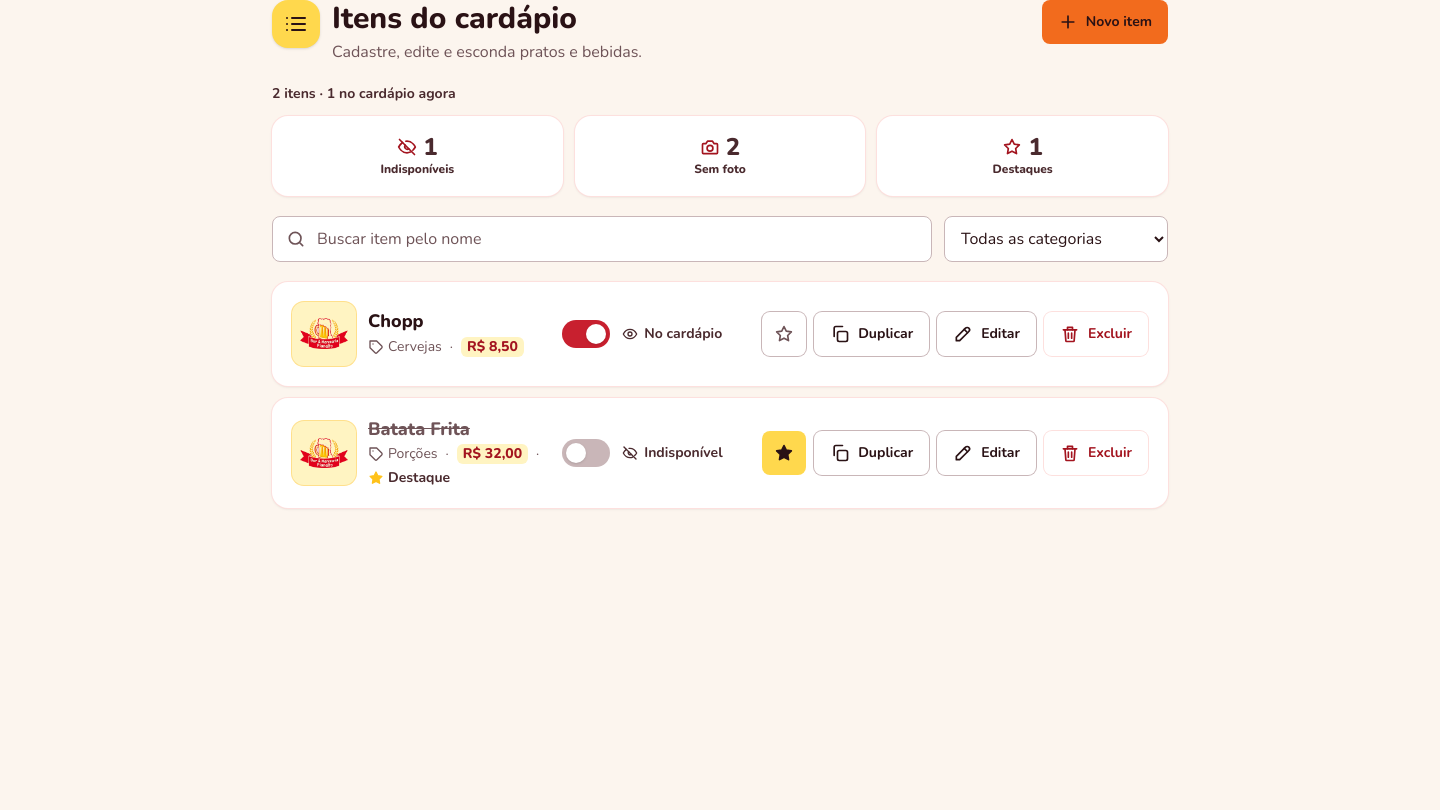
ItemsPage (proprietário) › só exclui depois de confirmar
What coordinates should you click on to do the following:
click the button with aria-label "Excluir Chopp"
I would click on:
 (1096, 334)
Its box is [1044,312,1148,356].
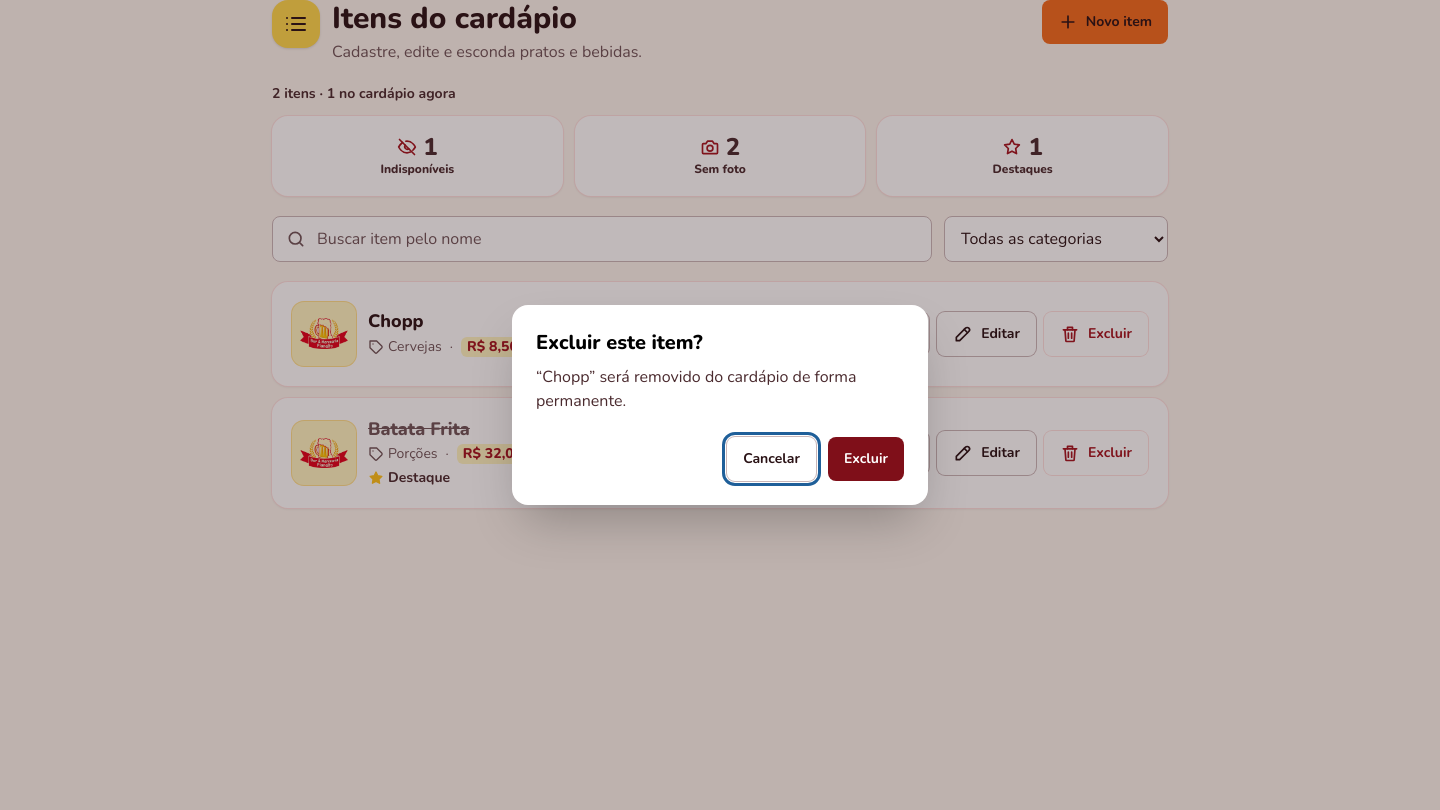
Now the dialog "Excluir este item?" shows "“Chopp” será removido", box [536,366,856,412]
What coordinates should you click on to do the following:
click the button "Cancelar"
I would click on:
 (772, 459)
Its box is [727,437,816,481].
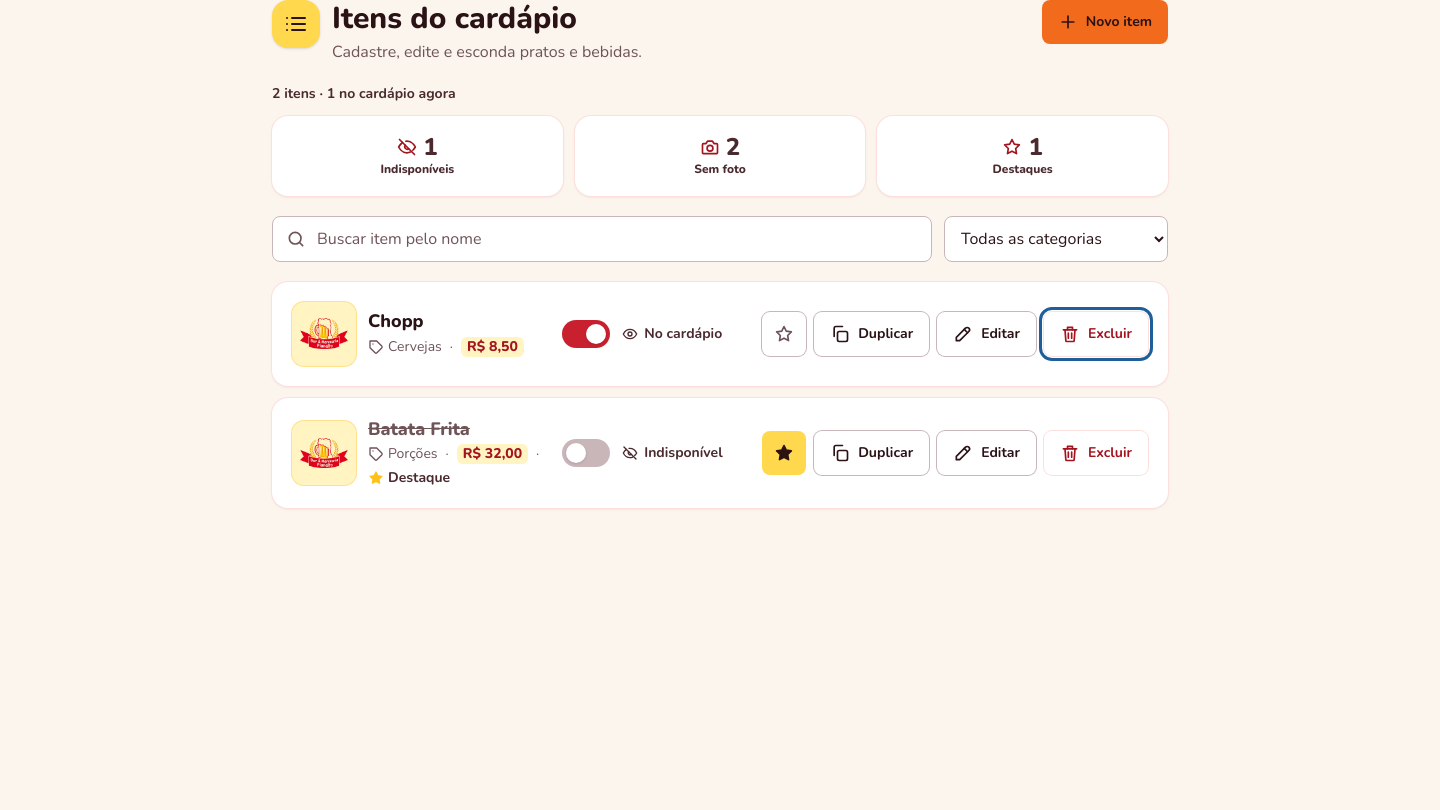
What coordinates should you click on to do the following:
click the button with aria-label "Excluir Chopp"
I would click on:
 (1096, 334)
Its box is [1044,312,1148,356].
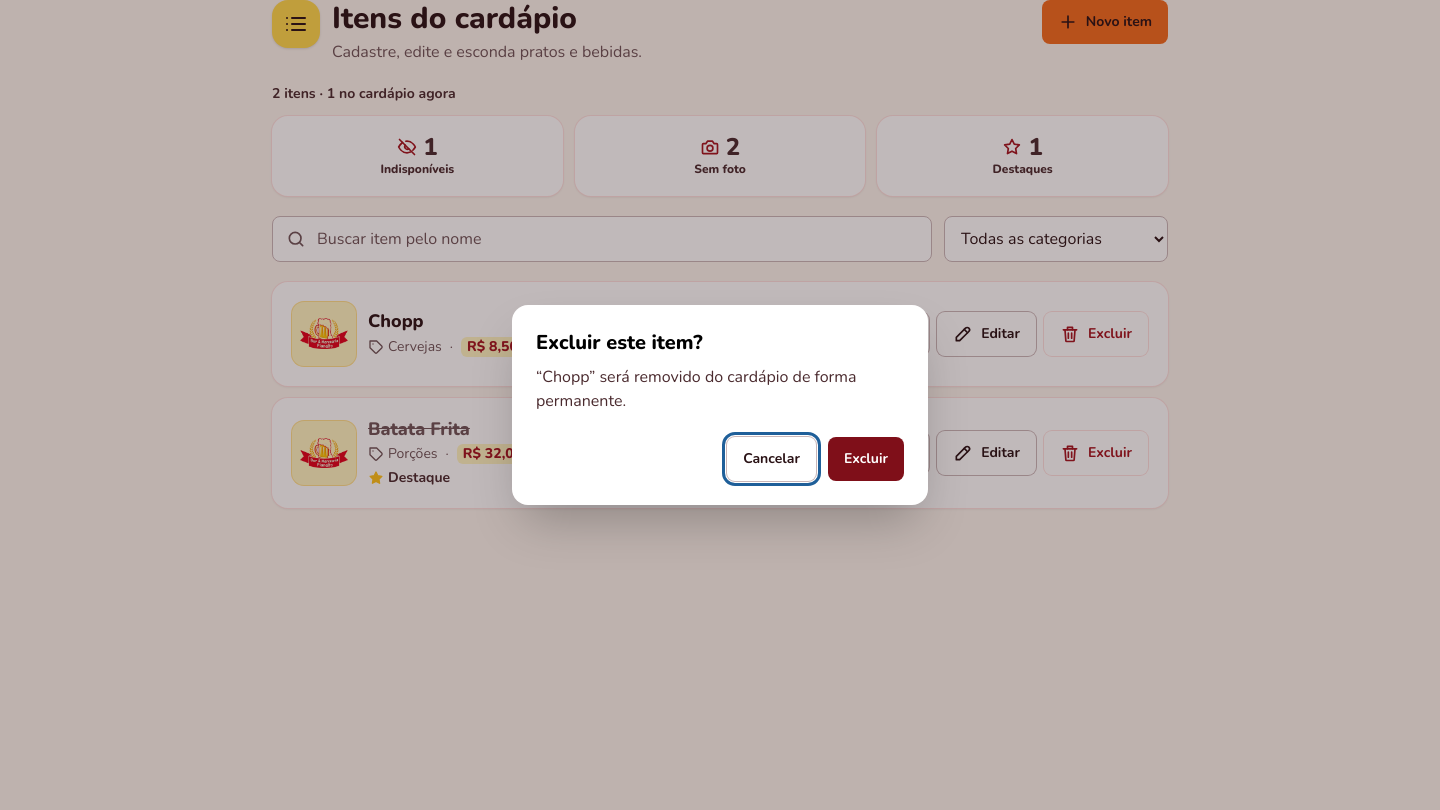
What coordinates should you click on to do the following:
click the button "Excluir"
I would click on:
 (866, 459)
Its box is [828,437,904,481].
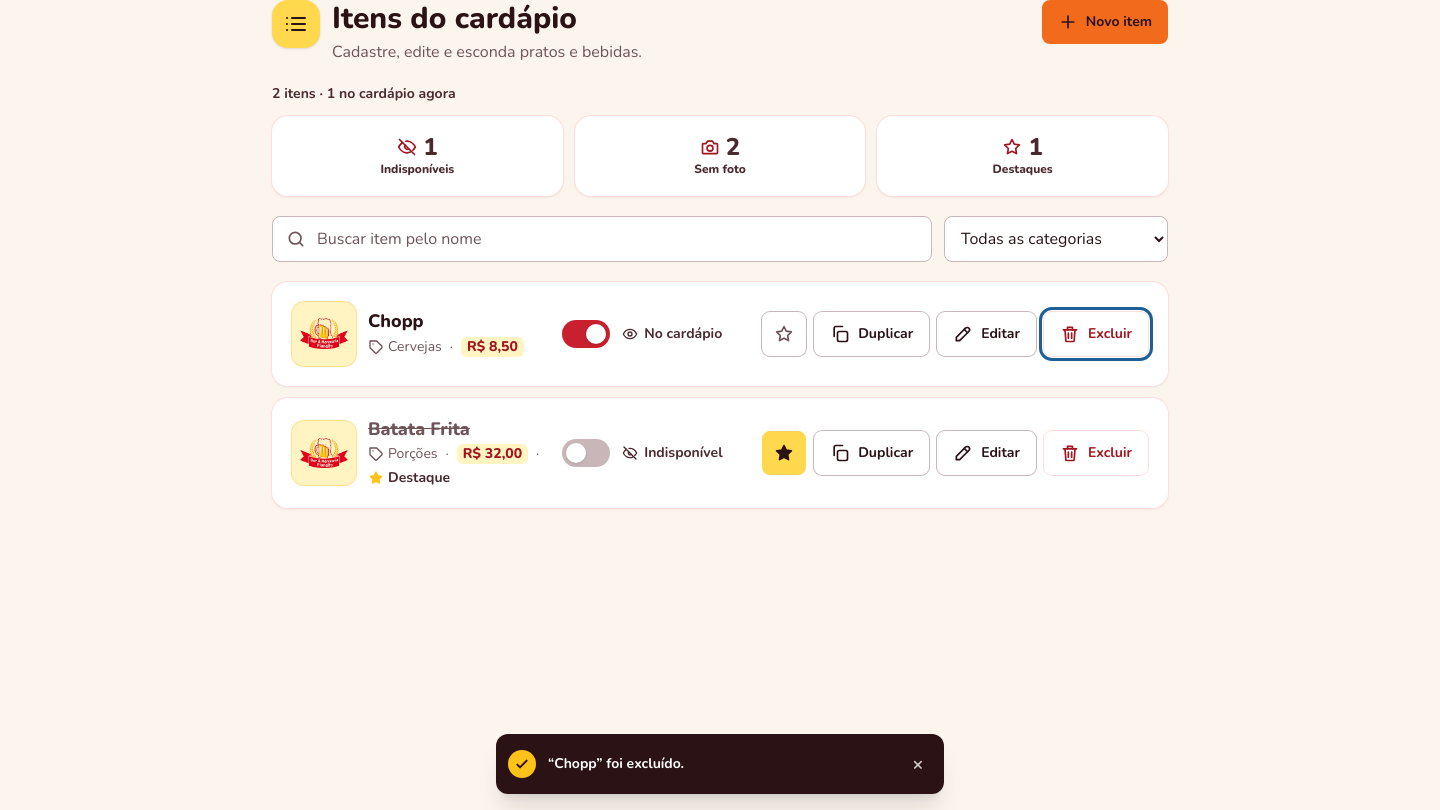
Now the text "“Chopp” foi excluído." is shown, box [548,754,684,773]
